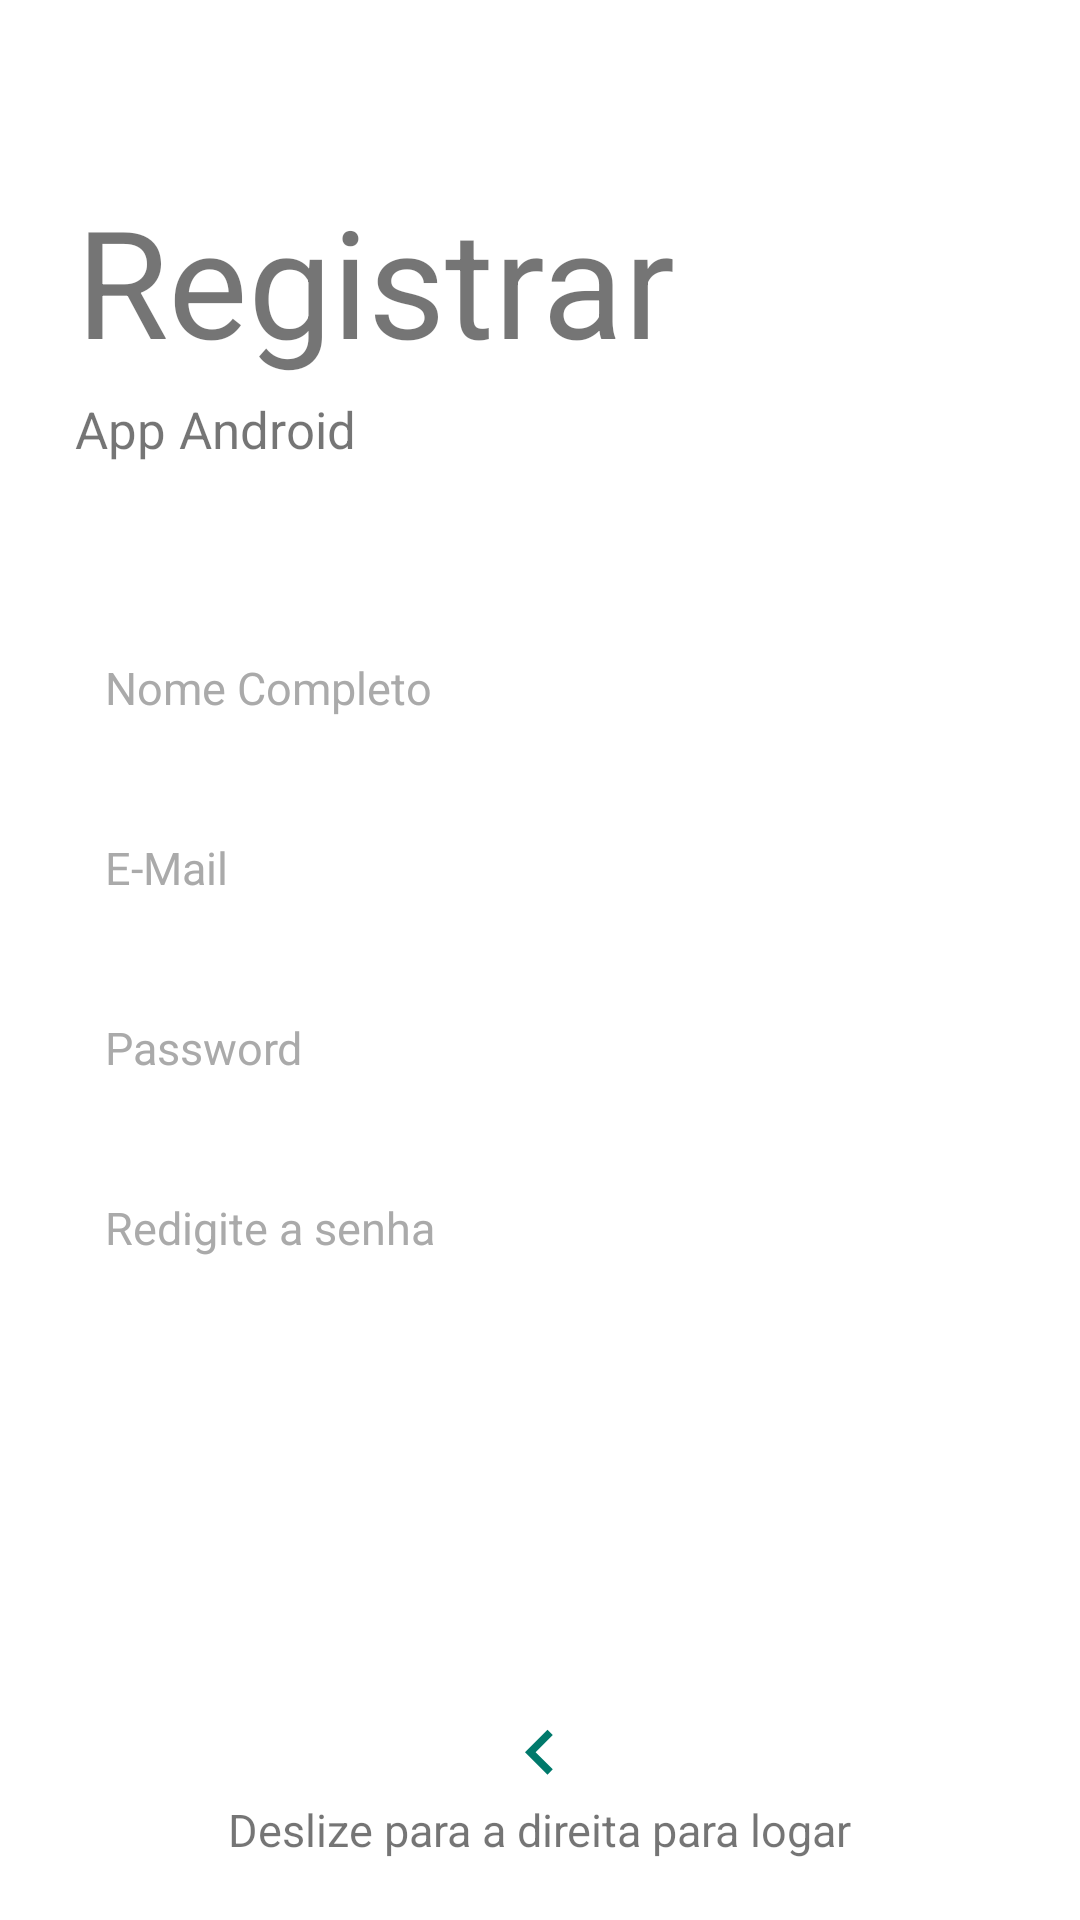

Named icons in this screenshot (1080×1920) and their centers, (x,y):
arrow left: (539,1752)
